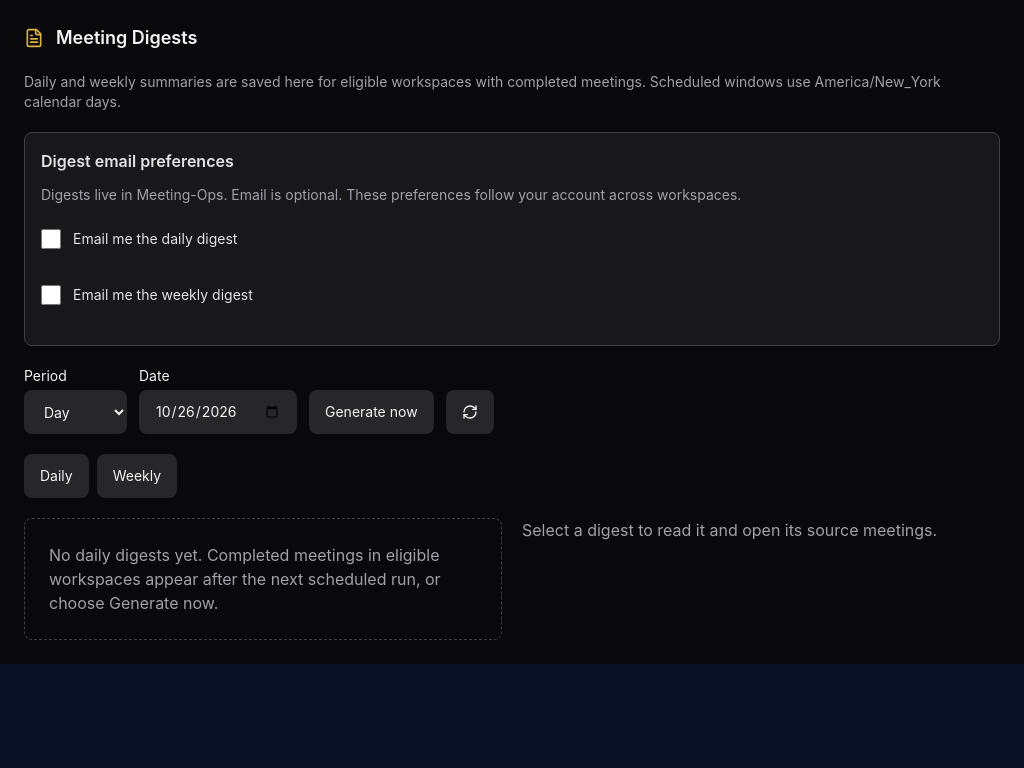
Digests › keeps the saved checkbox state when saving fails
The image size is (1024, 768).
Expected: the heading "Meeting Digests" is shown, [24,27,197,48]
Click the checkbox labelled "Email me the daily digest" at (51, 239), box [41,229,61,249]
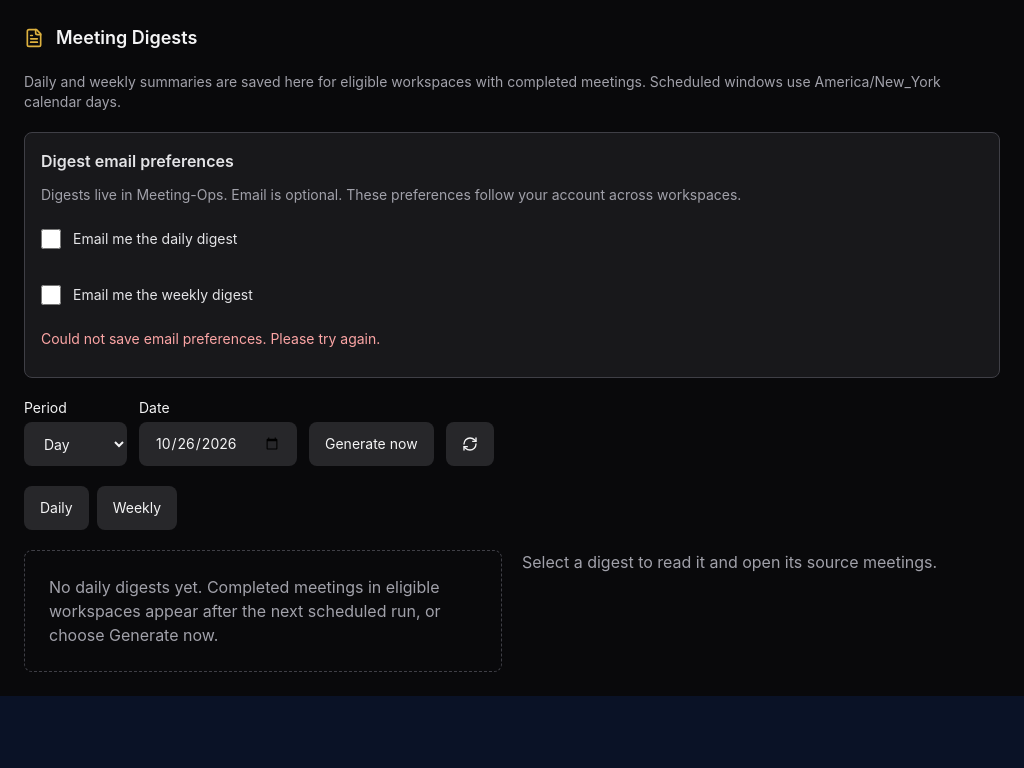
Expected: the text "Could not save email preferences. Please try again." is shown, [41,330,380,347]
